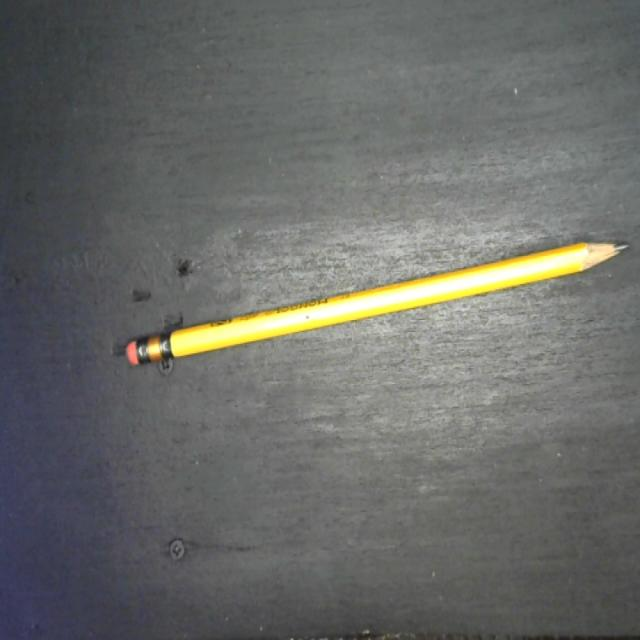biodegradable: (123, 235, 637, 374)
